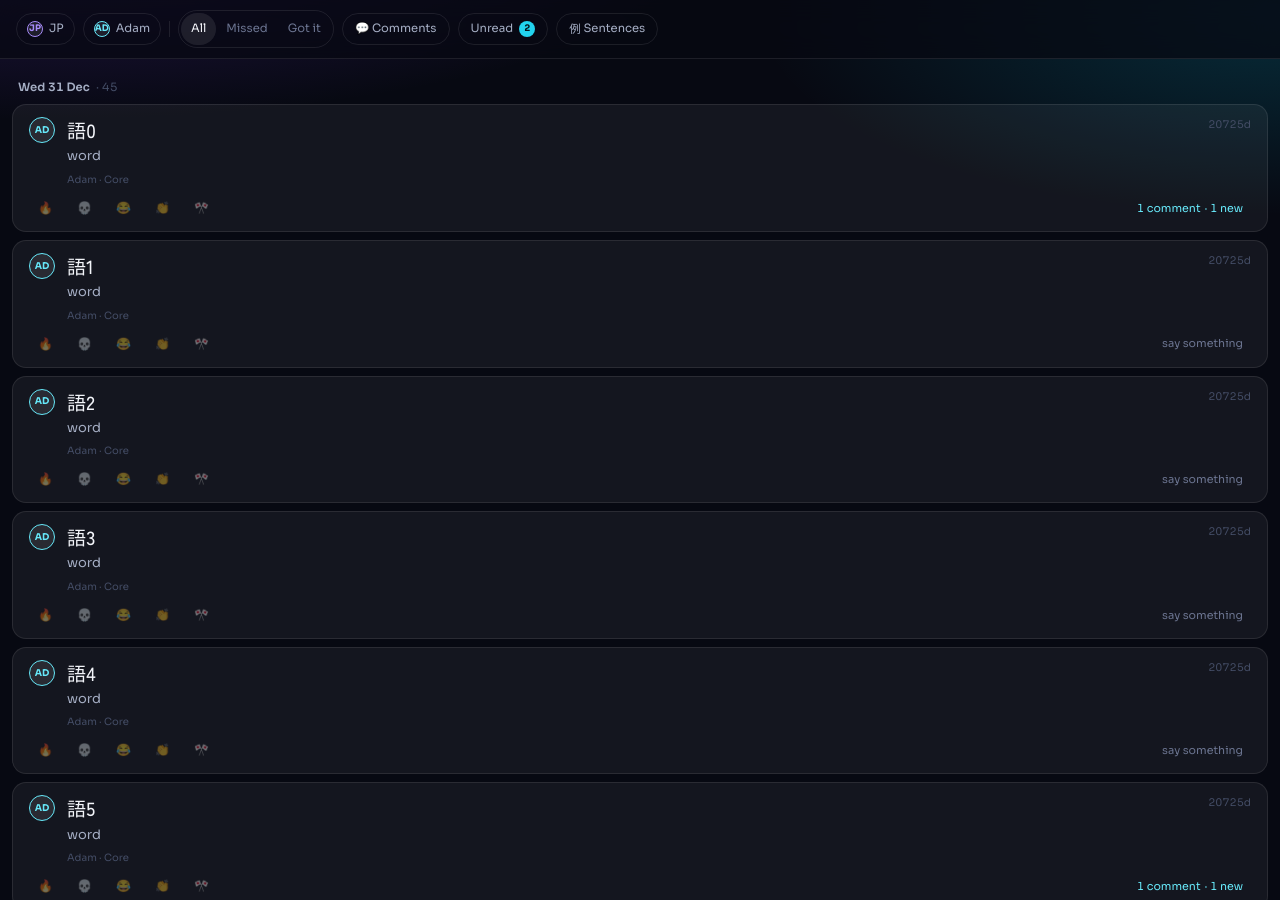
Mark all read › only shows with the Unread filter on and something unread
Step 1. Click the button with test id "filter-unread" → (503, 29), box [458,13,548,45]
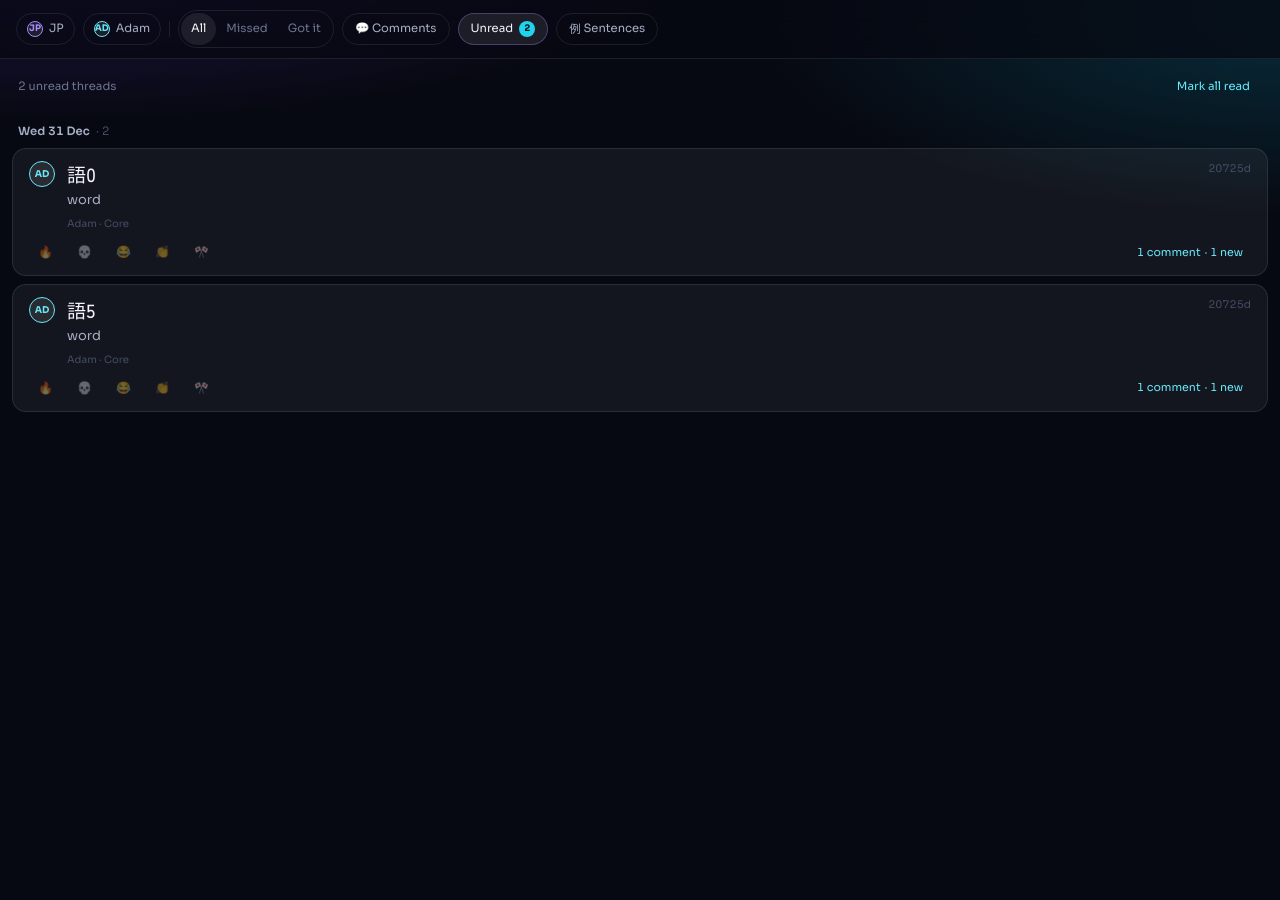
Expected: the button with test id "mark-all-read" reads "Mark all read", [1165,71,1262,103]
